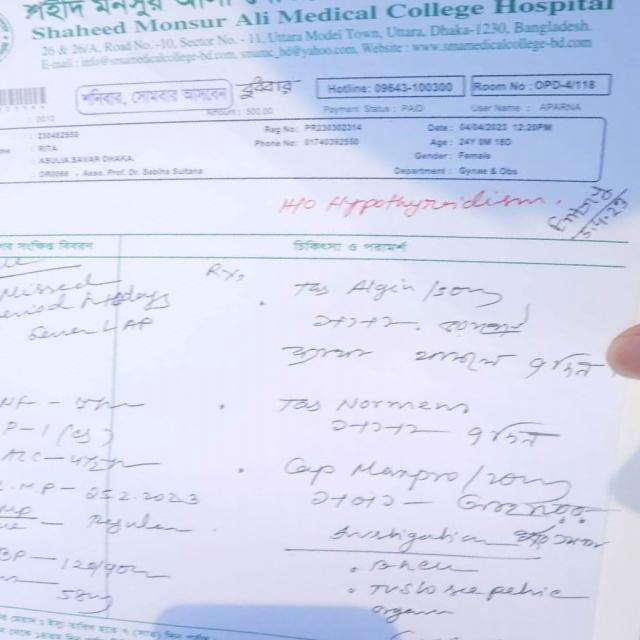Algin: (346, 272, 421, 302)
Maxpro: (347, 453, 460, 490)
Normens: (328, 385, 476, 419)
